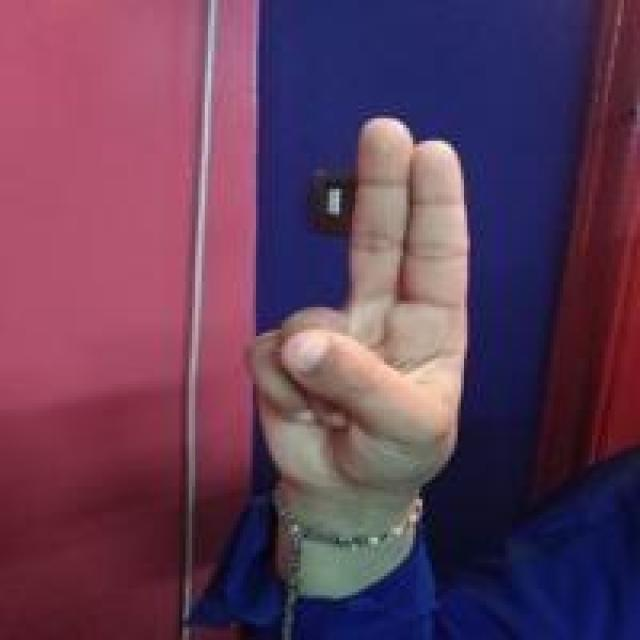U: (238, 112, 472, 506)
